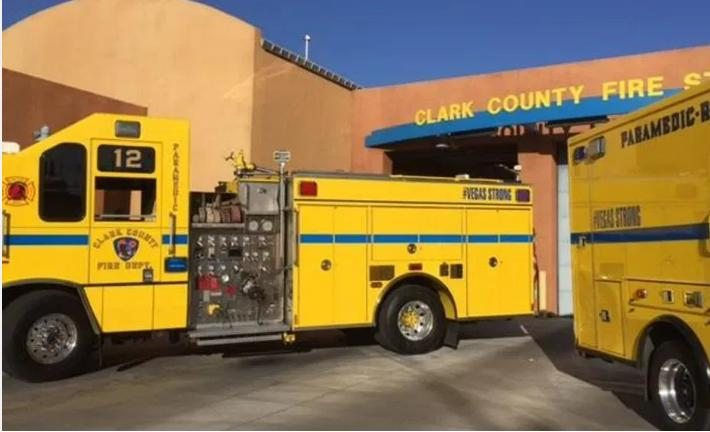firetruck_off: (4, 112, 536, 381), (571, 95, 710, 432)
